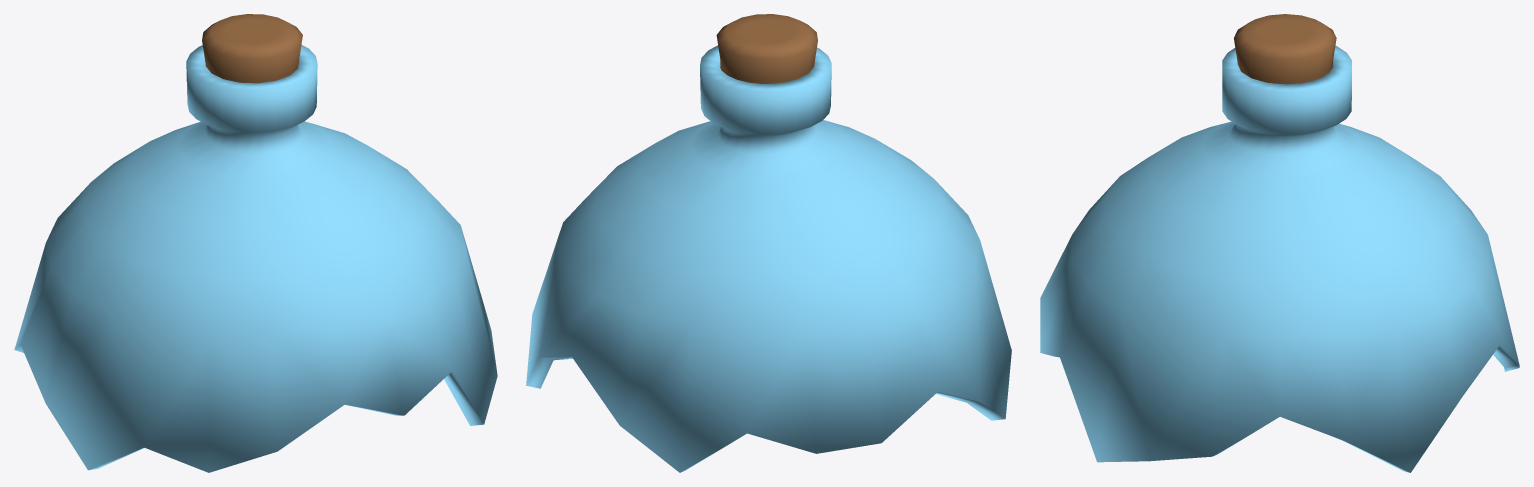
Rendered from BrokenFlaskRoundUpper.fbx.
The picture shows the model from 3 angles, left to right: view 1: azimuth 30°, elevation 25°; view 2: azimuth 150°, elevation 25°; view 3: azimuth 270°, elevation 25°; orthographic projection.
Parts seen in each view (by area): view 1: BrokenFlaskRoundUpper; view 2: BrokenFlaskRoundUpper; view 3: BrokenFlaskRoundUpper.
Boxes of the visible parts, x1,y1,x2,y2 form: BrokenFlaskRoundUpper: (14, 14, 497, 472); BrokenFlaskRoundUpper: (526, 14, 1011, 472); BrokenFlaskRoundUpper: (1040, 14, 1519, 472).
Size of the model in its own units: 41.21 by 34.28 by 40.27.
